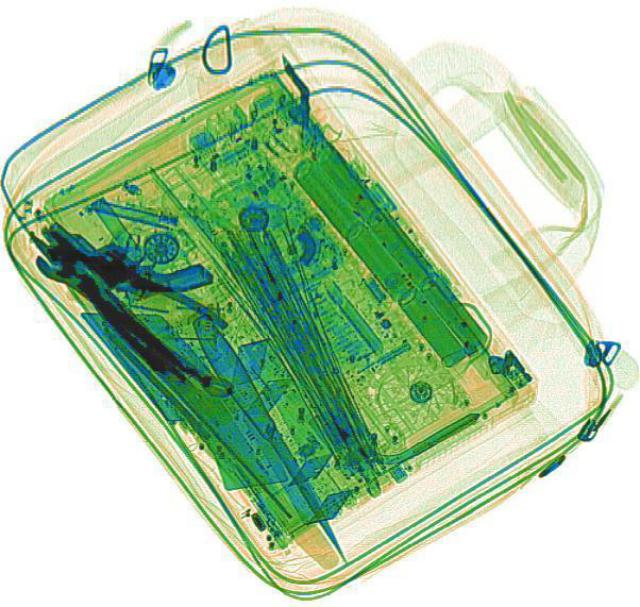Gun: (38, 176, 214, 327)
Knife: (174, 306, 370, 583)
Pliers: (12, 211, 250, 390)
Wrench: (28, 237, 242, 408)
